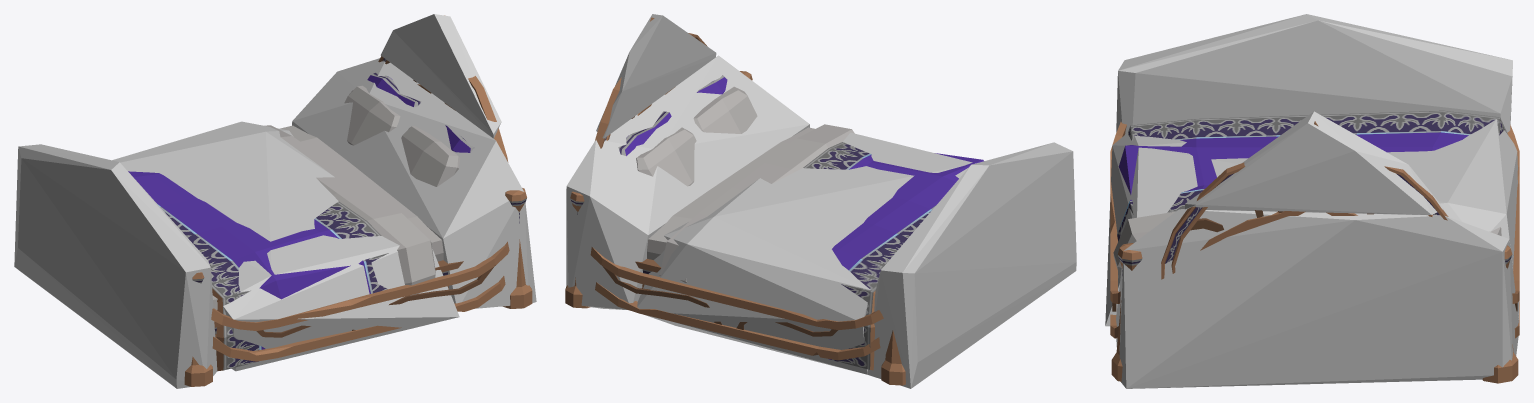
The model's file is SM_Prop_Bed_01.fbx.
The picture shows the model from 3 angles, left to right: view 1: azimuth 30°, elevation 25°; view 2: azimuth 150°, elevation 25°; view 3: azimuth 270°, elevation 25°; orthographic projection. The views are drawn at different scales.
Visible parts, largest first — view 1: SM_Prop_Bed_01_ConvexHulls, SM_Prop_Bed_01; view 2: SM_Prop_Bed_01_ConvexHulls, SM_Prop_Bed_01; view 3: SM_Prop_Bed_01_ConvexHulls, SM_Prop_Bed_01.
Part boxes in pixels (x1=…): SM_Prop_Bed_01_ConvexHulls: x1=14, y1=14, x2=536, y2=388; SM_Prop_Bed_01: x1=128, y1=15, x2=532, y2=386; SM_Prop_Bed_01_ConvexHulls: x1=566, y1=14, x2=1076, y2=388; SM_Prop_Bed_01: x1=565, y1=17, x2=983, y2=385; SM_Prop_Bed_01_ConvexHulls: x1=1105, y1=14, x2=1519, y2=388; SM_Prop_Bed_01: x1=1110, y1=110, x2=1519, y2=383.
Size of the model in its own units: 254 by 222 by 159.
2 materials, 1 textured.
